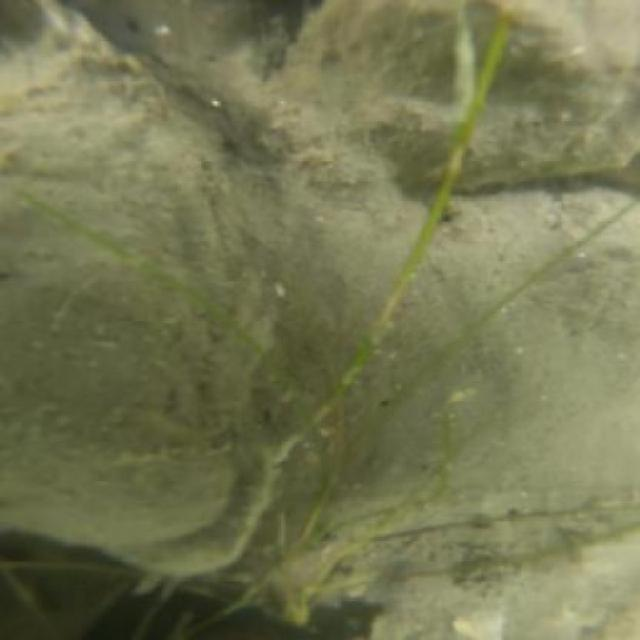Oyster-Closed: (4, 2, 278, 578)
Oyster-Indeterminate: (279, 0, 511, 187), (460, 0, 639, 193)
